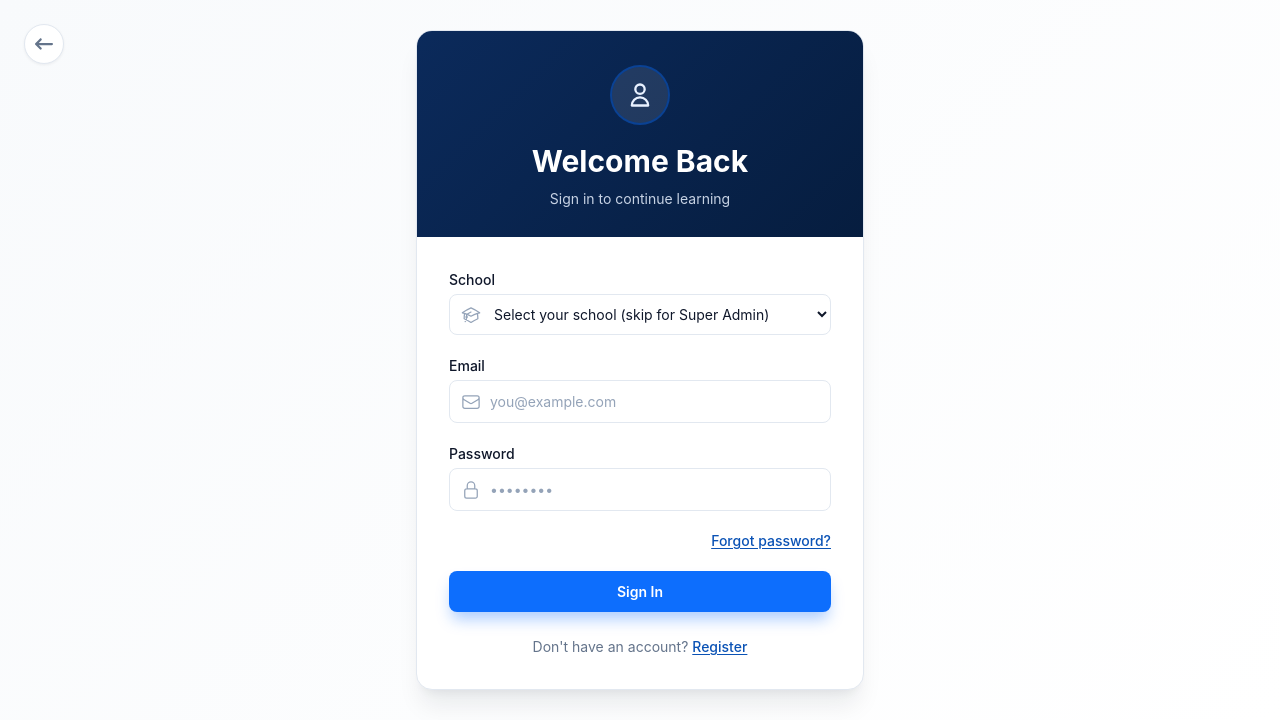
Test case: Login page › logs in, stores the mapped user and shows a success message
Select "Springfield High" in the dropdown labelled "School". click: (640, 314)
box: [449,294,831,335]
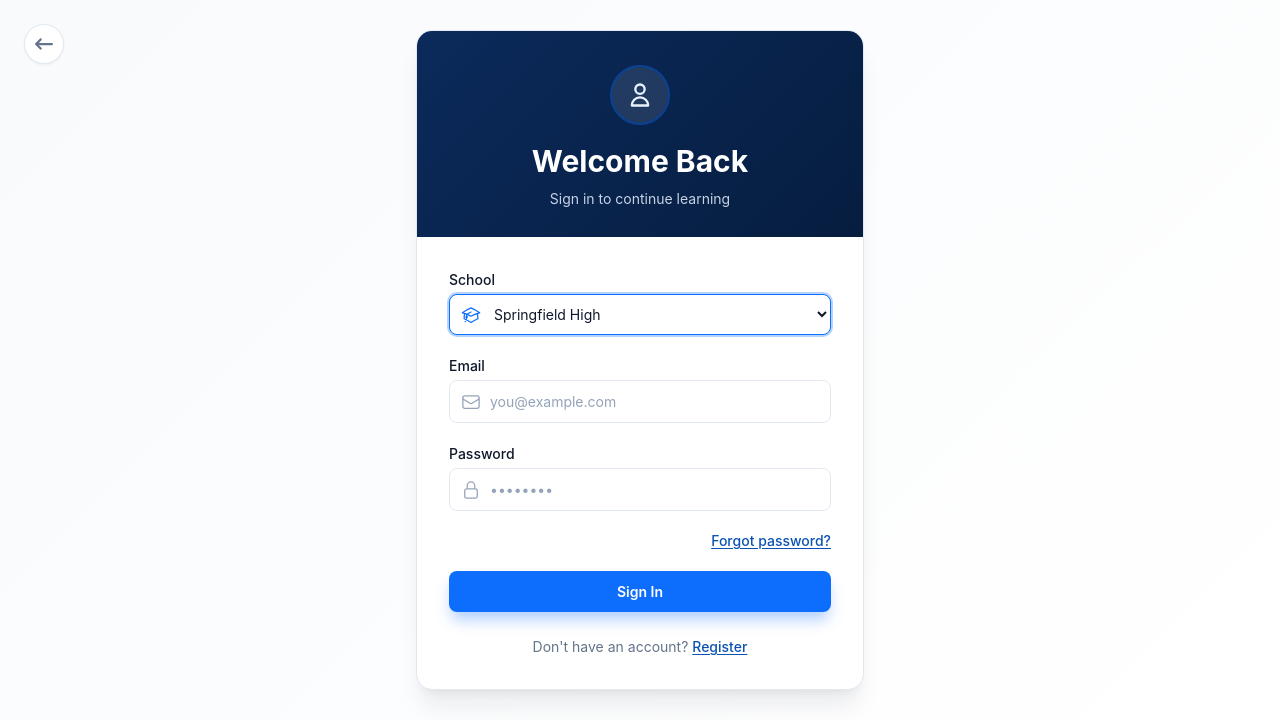
Type "ada@test.local" into the field labelled "Email". click: (640, 402)
box: [449,380,831,423]
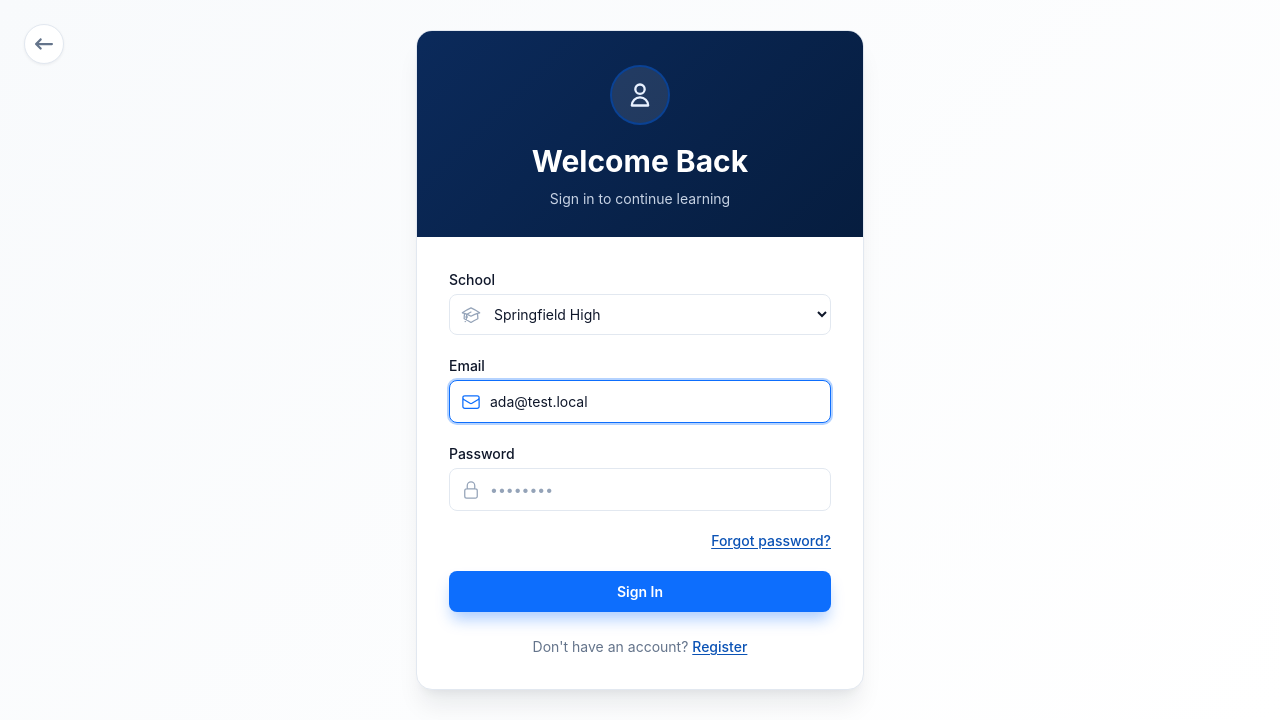
Type "secret" into the password field labelled "Password". click: (640, 490)
box: [449,468,831,511]
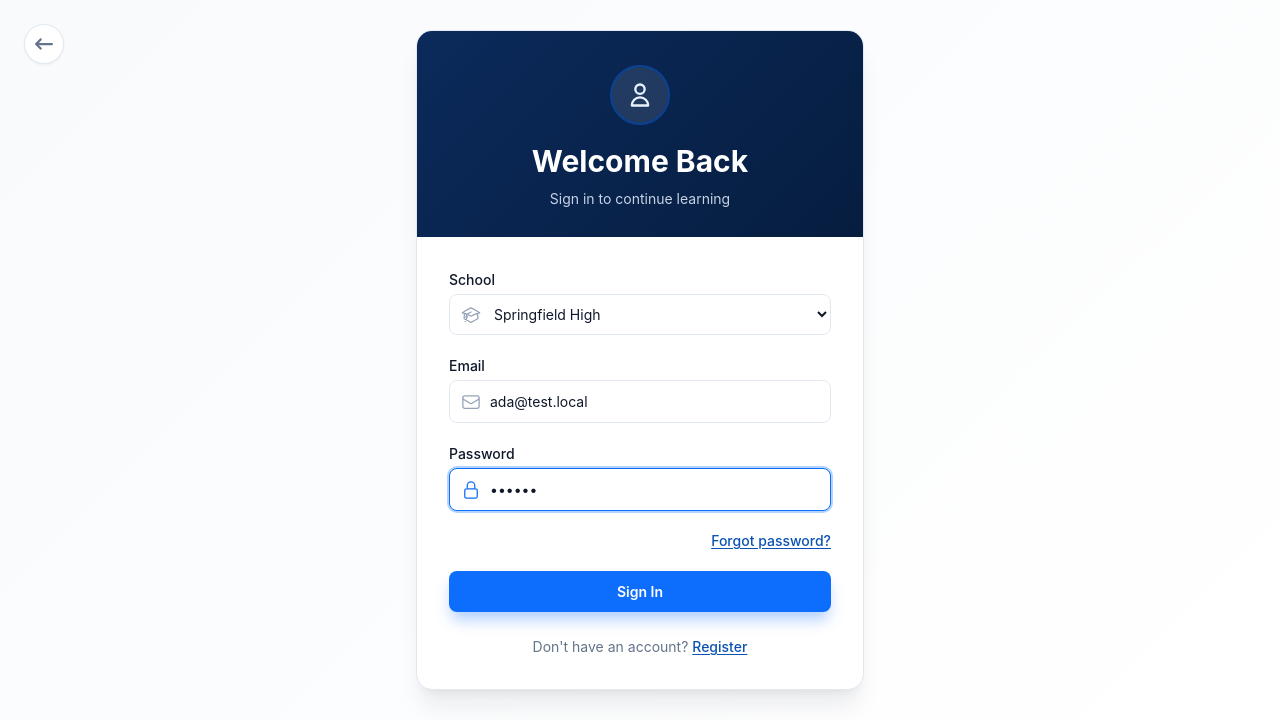
Click the button "Sign In". click: (640, 592)
box: [449,571,831,612]
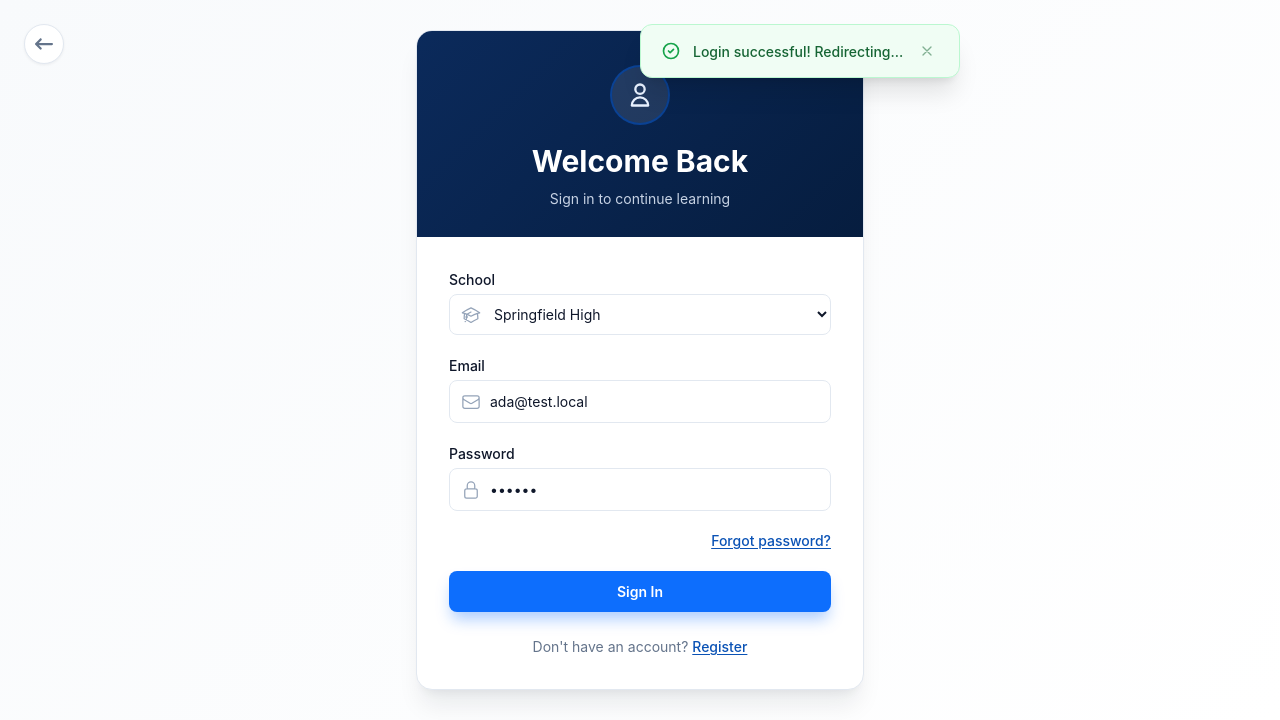
Now the text "Login successful! Redirecting..." is shown, box [693,40,903,62]
